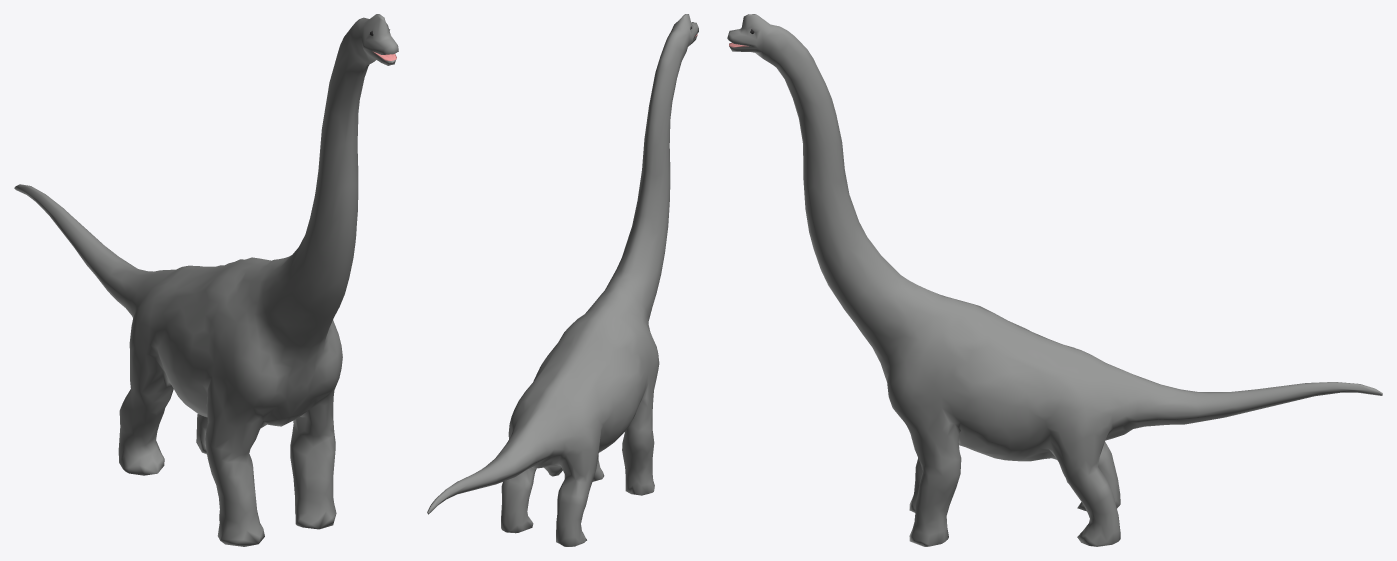
The model's file is dinosaur_006.gltf.
3 renders of one model, left to right at view 1: azimuth 30°, elevation 25°; view 2: azimuth 150°, elevation 25°; view 3: azimuth 270°, elevation 25°, orthographic. The views are drawn at different scales.
Visible parts, largest first — view 1: dinosaur_006; view 2: dinosaur_006; view 3: dinosaur_006.
Part boxes in pixels (<box>): dinosaur_006: <box>14,14,398,546</box>; dinosaur_006: <box>427,14,698,546</box>; dinosaur_006: <box>727,14,1382,546</box>.
Bounding box in the file's own units: 5.46 × 23.8 × 27.74.
1 material, 1 textured.
